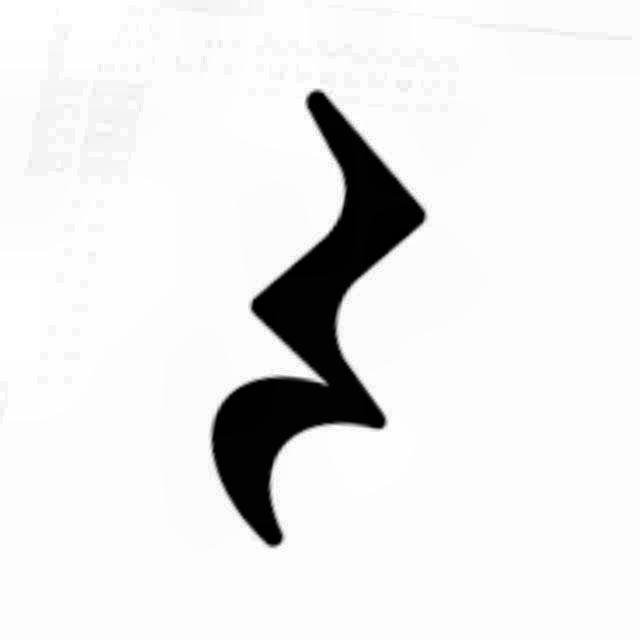Quarter-rest: (170, 86, 436, 554)
